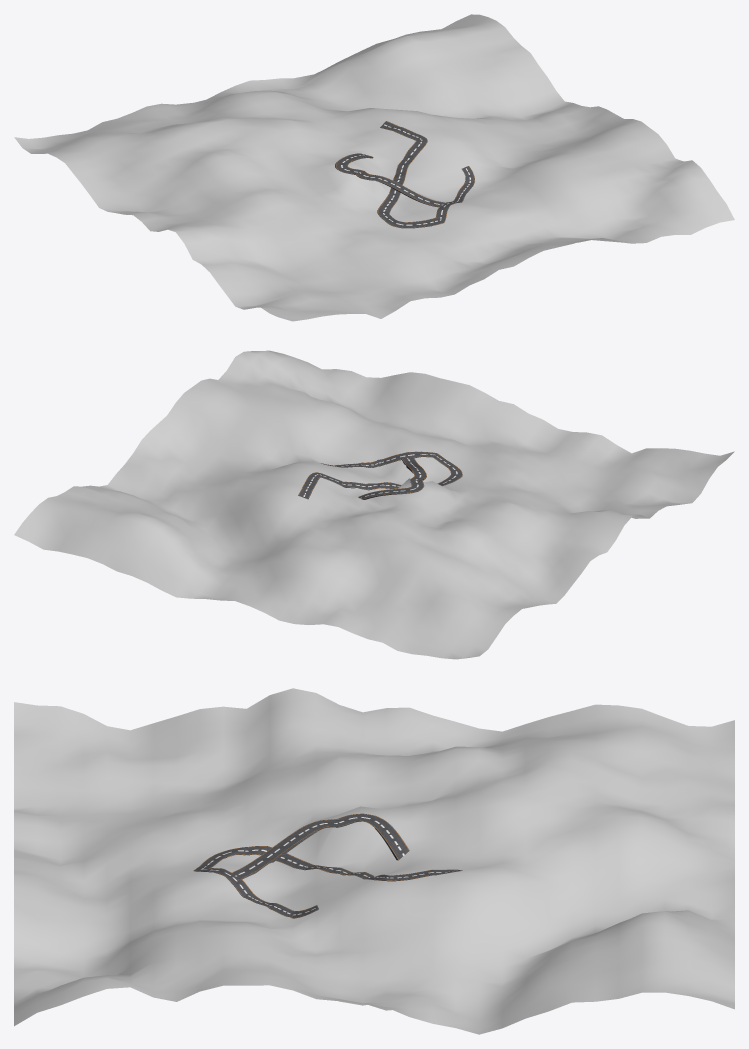
File: Level8B2.fbx
3 views of the same model, one above another, from view 1: azimuth 30°, elevation 25°; view 2: azimuth 150°, elevation 25°; view 3: azimuth 270°, elevation 25° (orthographic). The views are drawn at different scales.
Parts seen in each view (by area): view 1: Landscape, Plane.002, Plane.001; view 2: Landscape, Plane.002, Plane.001; view 3: Landscape, Plane.001, Plane.002.
Boxes of the visible parts, x1,y1,x2,y2 form: Landscape: [14, 14, 734, 321]; Plane.002: [377, 121, 463, 228]; Plane.001: [335, 153, 447, 207]; Landscape: [14, 350, 734, 659]; Plane.002: [298, 451, 462, 499]; Plane.001: [358, 457, 426, 499]; Landscape: [14, 688, 734, 1034]; Plane.001: [232, 813, 409, 880]; Plane.002: [193, 846, 462, 899].
Bounding box in the file's own units: 42888 × 4307 × 42888.
